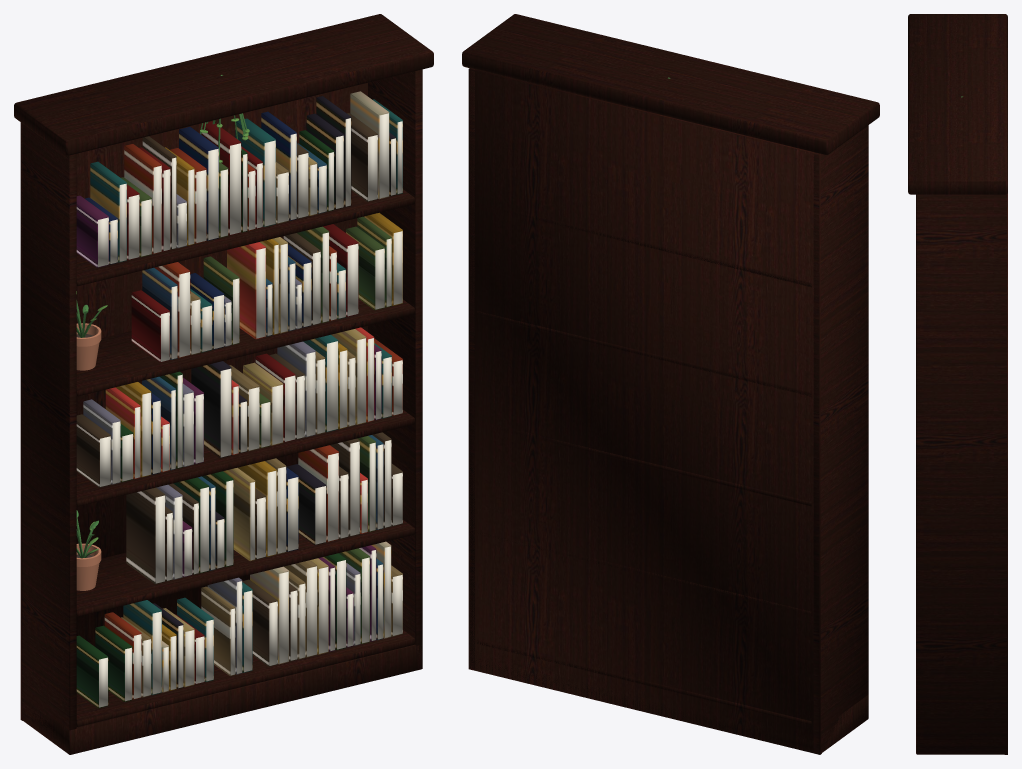
The model's file is bookshelf.glb.
3 views of the same model, side by side, from view 1: azimuth 30°, elevation 25°; view 2: azimuth 150°, elevation 25°; view 3: azimuth 270°, elevation 25° (orthographic). The views are drawn at different scales.
Parts seen in each view (by area): view 1: Shelf wood, Book spines, Pages, Terracotta, Leaves; view 2: Shelf wood; view 3: Shelf wood.
Part boxes in pixels (x1,y1,x2,y2): Shelf wood: (14, 14, 433, 754); Book spines: (76, 91, 402, 708); Pages: (98, 113, 402, 707); Terracotta: (76, 323, 101, 590); Leaves: (76, 75, 247, 558); Shelf wood: (462, 14, 879, 754); Shelf wood: (908, 14, 1007, 754).
Bounding box in the file's own units: 1.47 × 2.36 × 0.37.
7 materials, 2 textured.
